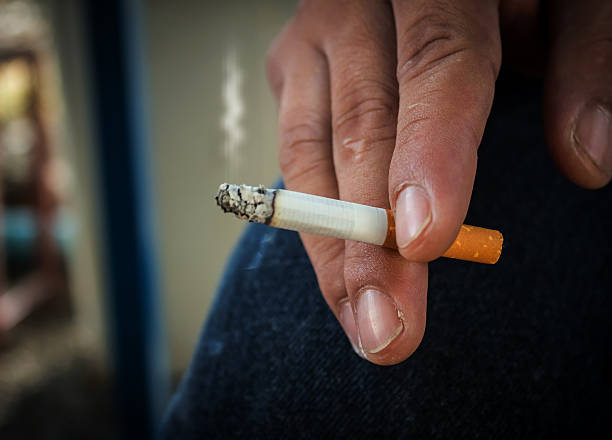cigarette: (214, 183, 501, 266)
